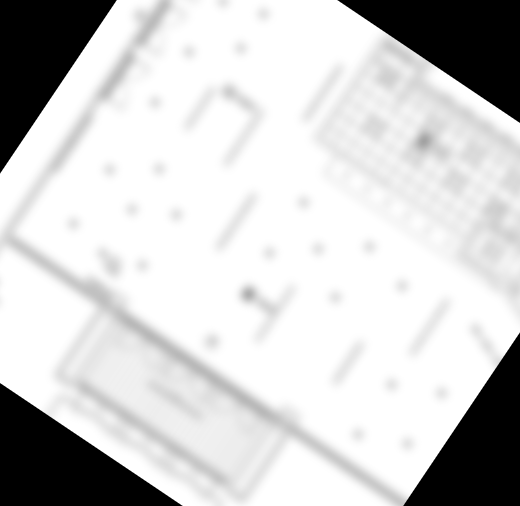double door: (93, 48, 156, 115), (131, 0, 191, 60), (68, 386, 128, 440), (162, 450, 221, 503), (115, 419, 173, 470), (170, 0, 227, 6)
window: (42, 106, 100, 179)
